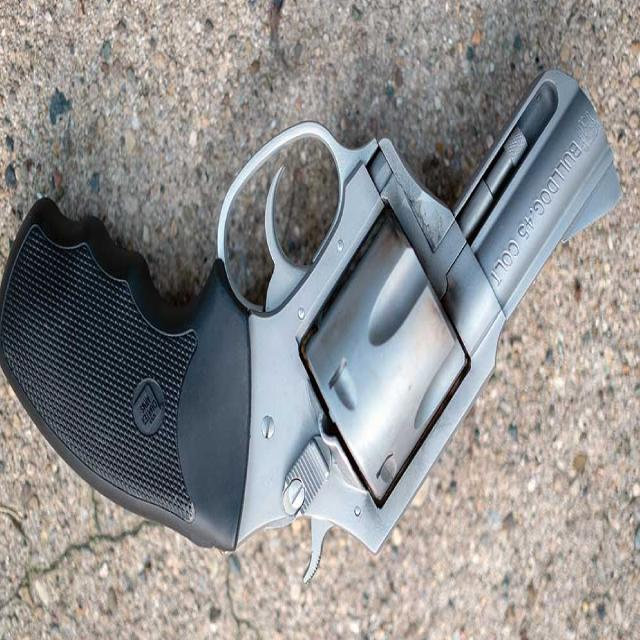Gun: (0, 51, 615, 558)
